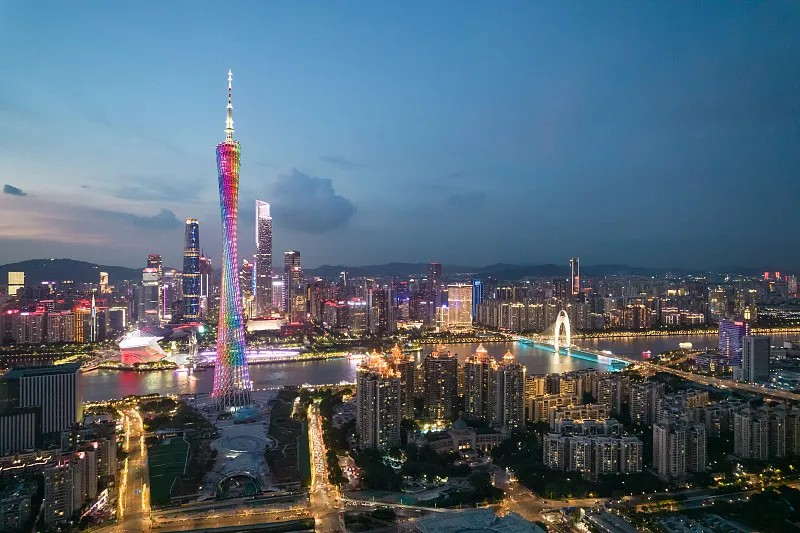Canton: (210, 67, 252, 409)
